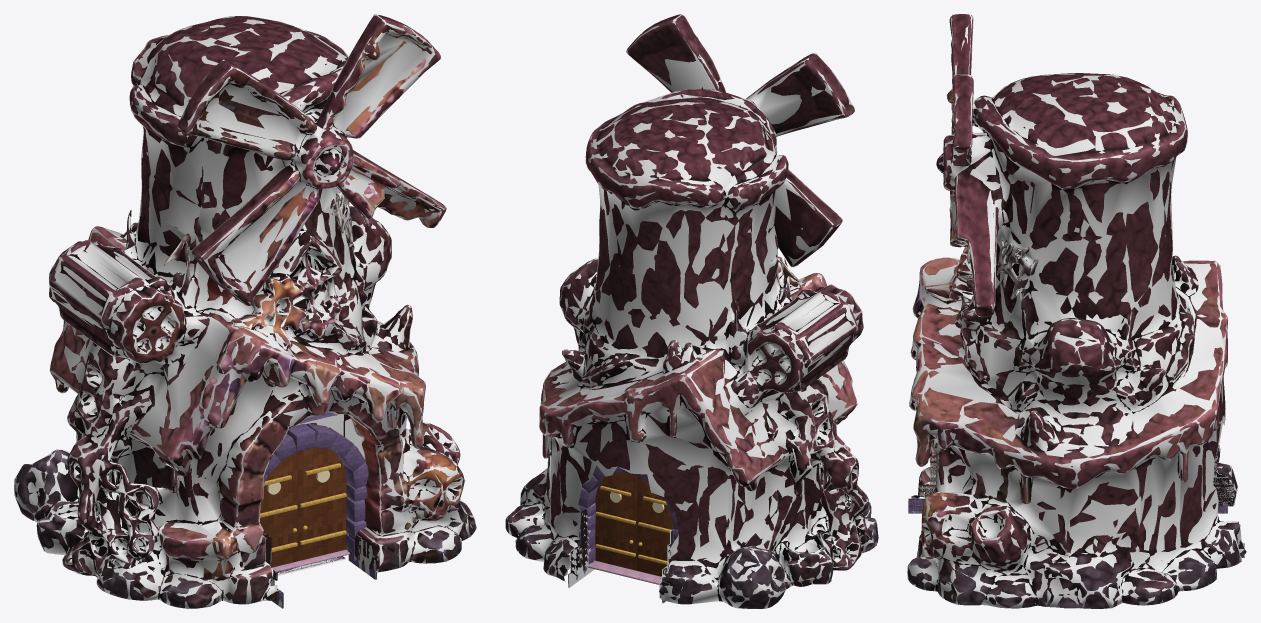
File: GIN_HD_HauntedWindmill.fbx
The picture shows the model from 3 angles, left to right: view 1: azimuth 30°, elevation 25°; view 2: azimuth 150°, elevation 25°; view 3: azimuth 270°, elevation 25°; orthographic projection. The views are drawn at different scales.
Parts seen in each view (by area): view 1: GIN_HD_HauntedWindmill, COL_GIN_HD_HauntedWindmill_Shell, GIN_HD_HauntedWindmill_Door_FR, GIN_HD_HauntedWindmill_Frame, GIN_HD_HauntedWindmill_Door_FL; view 2: GIN_HD_HauntedWindmill, COL_GIN_HD_HauntedWindmill_Shell, GIN_HD_HauntedWindmill_Door_BL, GIN_HD_HauntedWindmill_Door_BR, GIN_HD_HauntedWindmill_Frame; view 3: GIN_HD_HauntedWindmill, COL_GIN_HD_HauntedWindmill_Shell.
Part boxes in pixels (box(x1,y1,x2,y2)): GIN_HD_HauntedWindmill: box(14, 15, 475, 608); COL_GIN_HD_HauntedWindmill_Shell: box(14, 14, 476, 608); GIN_HD_HauntedWindmill_Door_FR: box(292, 447, 346, 561); GIN_HD_HauntedWindmill_Frame: box(263, 423, 368, 572); GIN_HD_HauntedWindmill_Door_FL: box(259, 451, 307, 567); GIN_HD_HauntedWindmill: box(505, 14, 878, 608); COL_GIN_HD_HauntedWindmill_Shell: box(505, 14, 877, 608); GIN_HD_HauntedWindmill_Door_BL: box(595, 472, 642, 570); GIN_HD_HauntedWindmill_Door_BR: box(629, 476, 673, 576); GIN_HD_HauntedWindmill_Frame: box(576, 465, 678, 584); GIN_HD_HauntedWindmill: box(907, 14, 1246, 608); COL_GIN_HD_HauntedWindmill_Shell: box(907, 14, 1244, 608).
Bounding box in the file's own units: 24.58 × 34.77 × 21.56.
